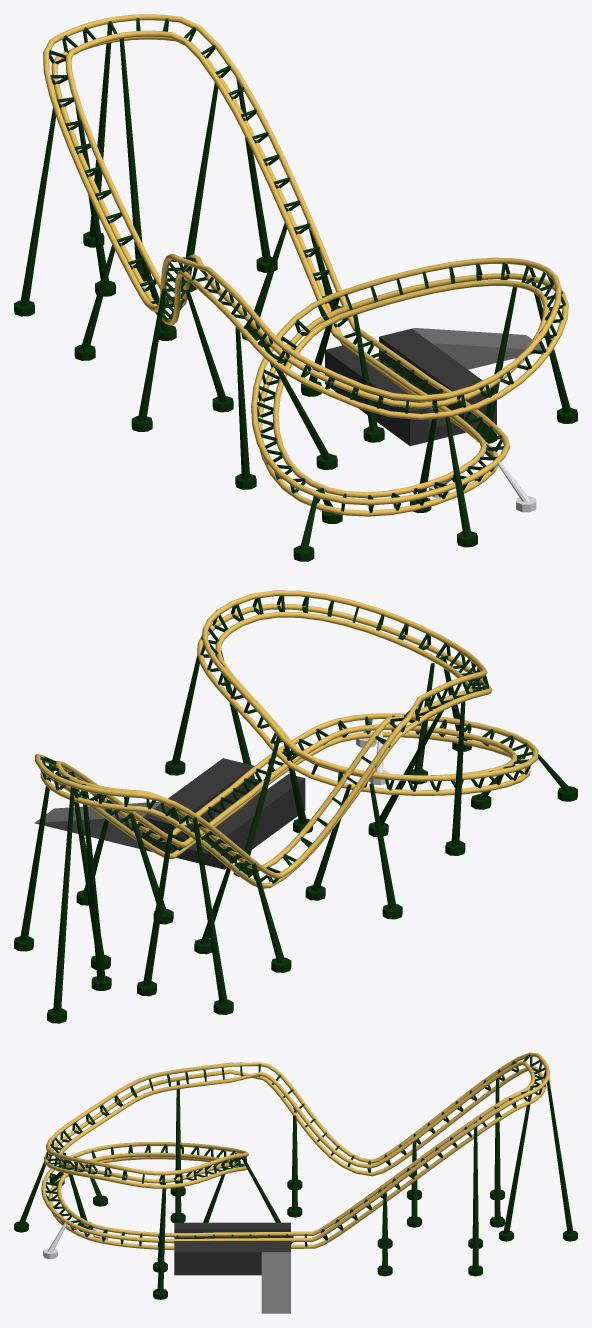
The model's file is roller coaster.fbx.
3 views of the same model, one above another, from view 1: azimuth 30°, elevation 25°; view 2: azimuth 150°, elevation 25°; view 3: azimuth 270°, elevation 25° (orthographic). The views are drawn at different scales.
Parts seen in each view (by area): view 1: BezierCircle.003, Cylinder.010, Plane.002, Cube; view 2: BezierCircle.003, Cylinder.010, Cube, Plane.002; view 3: BezierCircle.003, Cylinder.010, Cube, Plane.002, Cylinder.014.
Part boxes in pixels (left/top/right/bottom): BezierCircle.003: left=43, top=14, right=568, bottom=516; Cylinder.010: left=14, top=28, right=577, bottom=561; Plane.002: left=49, top=18, right=565, bottom=512; Cube: left=325, top=328, right=542, bottom=446; BezierCircle.003: left=34, top=590, right=538, bottom=888; Cylinder.010: left=14, top=650, right=577, bottom=1023; Cube: left=34, top=758, right=305, bottom=869; Plane.002: left=40, top=595, right=532, bottom=883; BezierCircle.003: left=41, top=1052, right=549, bottom=1249; Cylinder.010: left=14, top=1078, right=577, bottom=1299; Cube: left=174, top=1222, right=290, bottom=1313; Plane.002: left=45, top=1054, right=545, bottom=1247; Cylinder.014: left=43, top=1222, right=108, bottom=1259.
Bounding box in the file's own units: 3302 × 1866 × 5852.
